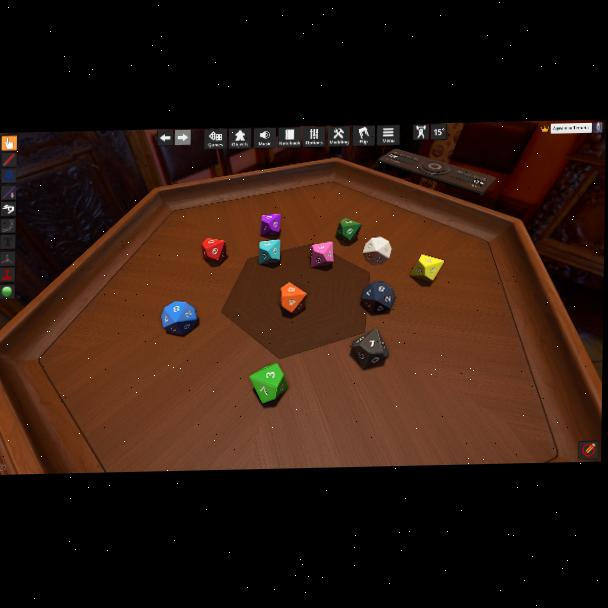d10: (249, 362, 288, 403), (351, 328, 388, 369), (160, 300, 198, 336), (360, 282, 393, 315), (410, 254, 442, 283), (279, 282, 306, 315), (362, 237, 390, 266), (259, 239, 281, 265), (310, 242, 332, 268), (337, 218, 360, 242), (202, 238, 225, 262), (260, 214, 281, 238)
